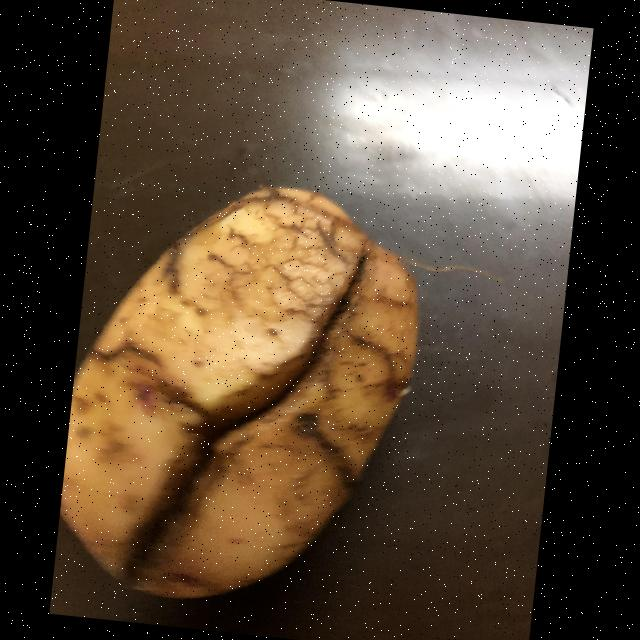Damaged potato: (51, 168, 427, 618)
